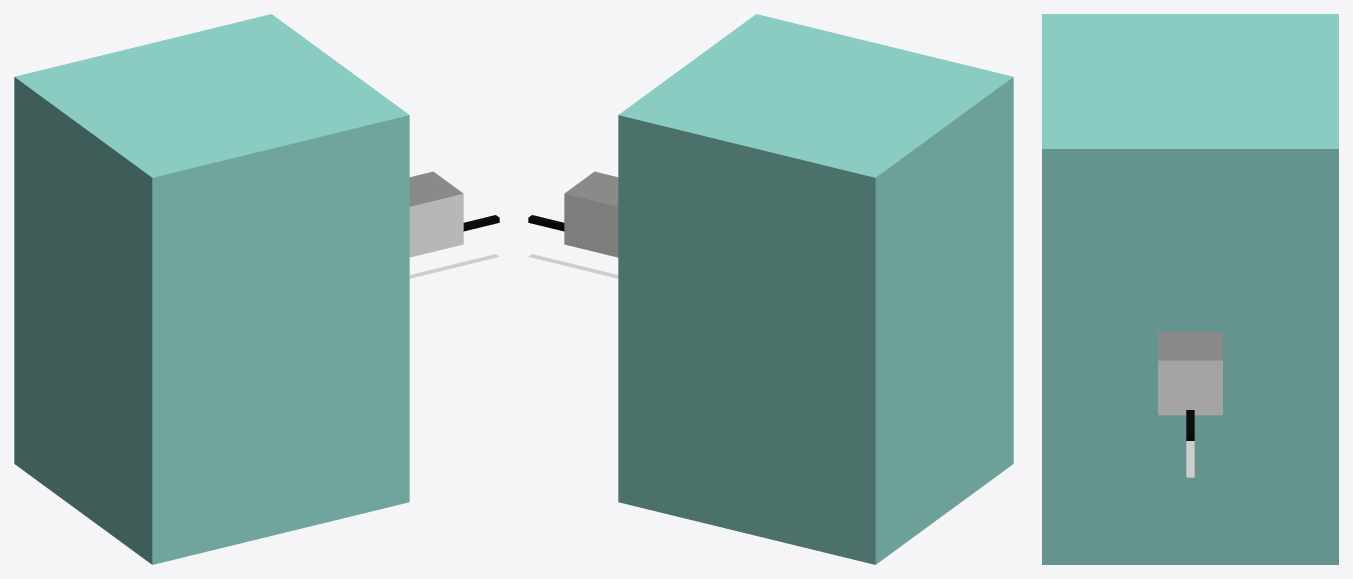
The model's file is level5.FBX.
3 renders of one model, left to right at view 1: azimuth 30°, elevation 25°; view 2: azimuth 150°, elevation 25°; view 3: azimuth 270°, elevation 25°, orthographic. The views are drawn at different scales.
Parts seen in each view (by area): view 1: Box001; view 2: Box001; view 3: Box001.
Boxes of the visible parts, x1,y1,x2,y2 form: Box001: (14,14,499,564); Box001: (528,14,1013,564); Box001: (1042,14,1338,564).
Size of the model in its own units: 66224 by 59118 by 38231.
